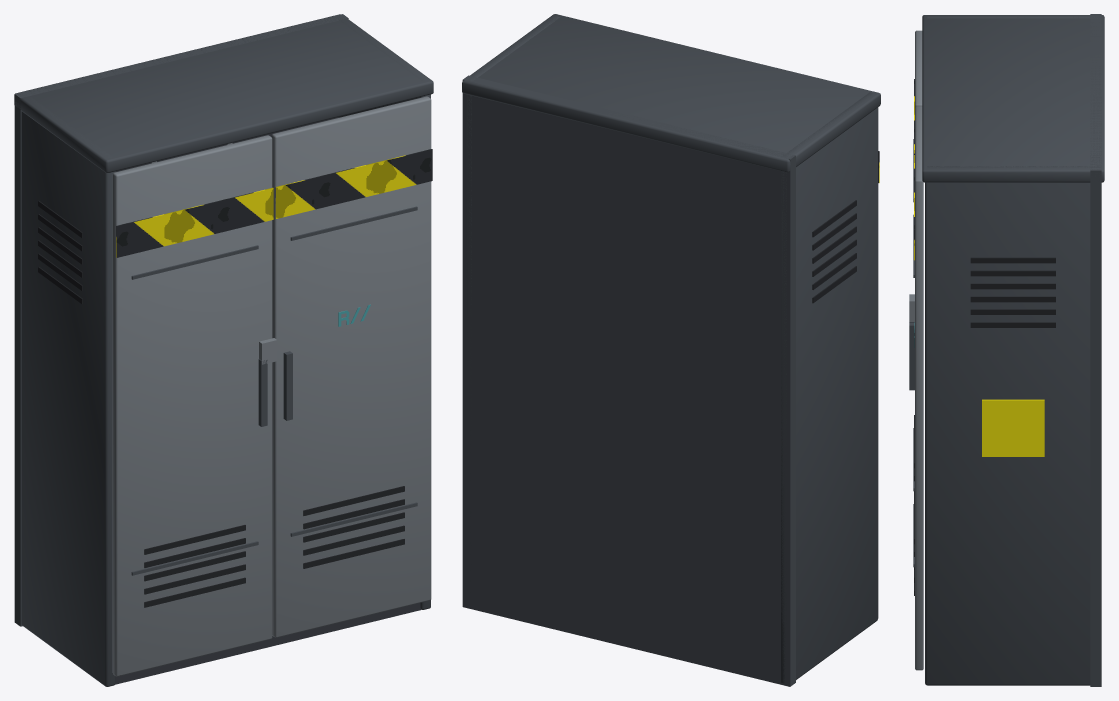
Rendered from service_cabinet.glb.
The picture shows the model from 3 angles, left to right: view 1: azimuth 30°, elevation 25°; view 2: azimuth 150°, elevation 25°; view 3: azimuth 270°, elevation 25°; orthographic projection. The views are drawn at different scales.
Visible parts, largest first — view 1: Body, DoorL, DoorR; view 2: Body; view 3: Body, DoorR, DoorL.
Part boxes in pixels (bbox=[...]): Body: bbox=[14, 14, 433, 686]; DoorL: bbox=[112, 135, 277, 676]; DoorR: bbox=[272, 96, 432, 637]; Body: bbox=[462, 14, 880, 686]; Body: bbox=[922, 14, 1104, 686]; DoorR: bbox=[909, 106, 923, 670]; DoorL: bbox=[909, 30, 922, 491].
Bounding box in the file's own units: 1.3 × 2 × 0.685.
9 materials, 1 textured.
